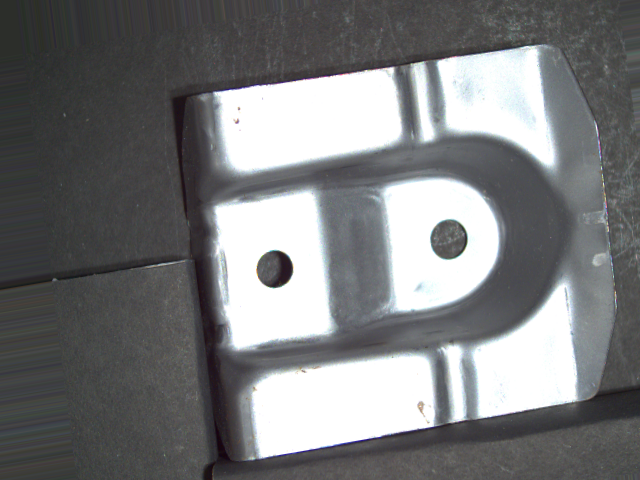defect: (423, 217, 471, 262)
